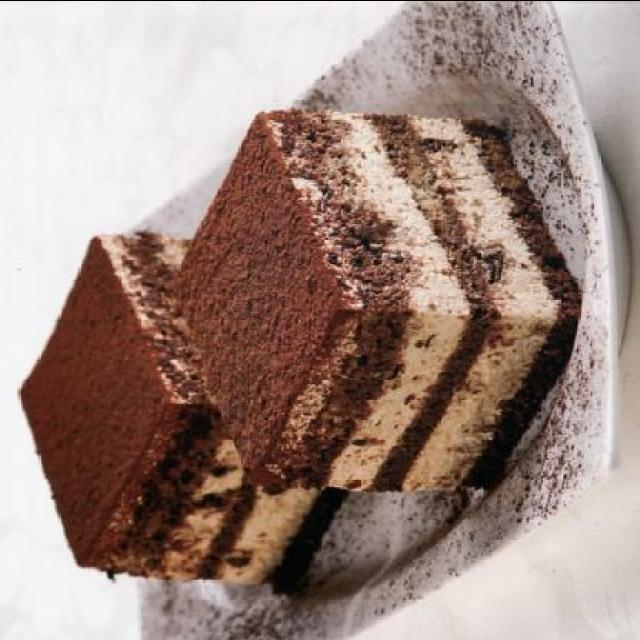Tiramisu: (162, 97, 564, 505), (20, 210, 272, 581)
